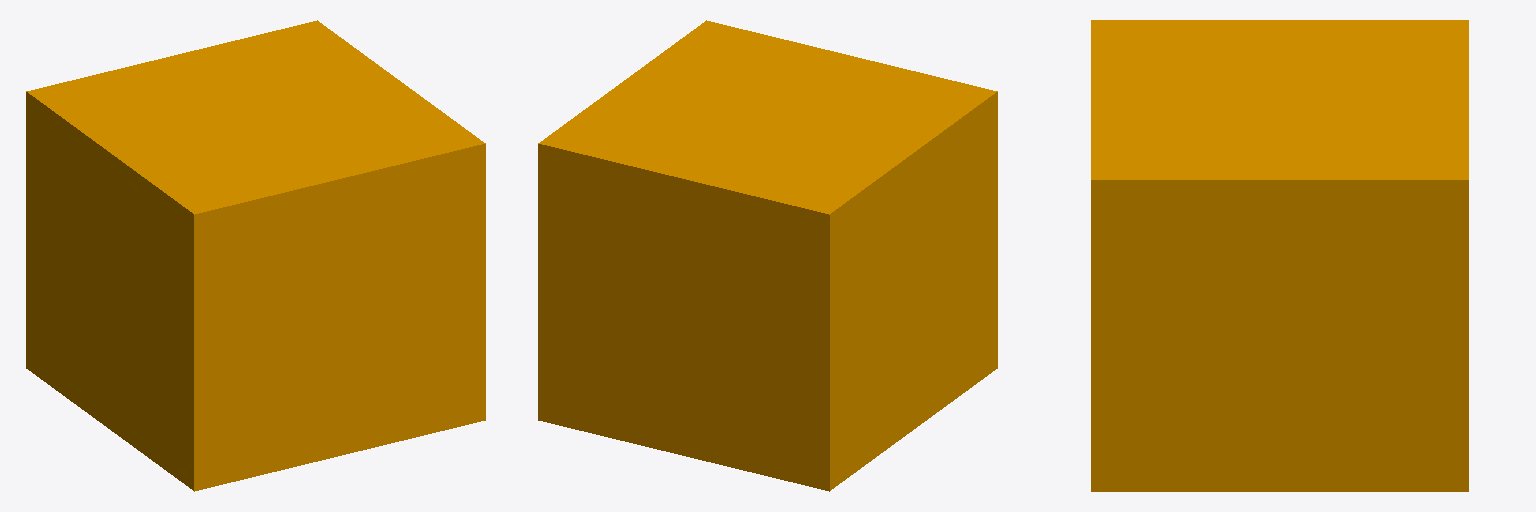
The robot description file, URDF, robot "object":
<robot name="object">
  <link name="object">
    <visual>
      <origin xyz="0 0 0" />
      <geometry>
        <box size="0.08800000000000002 0.08800000000000002 0.08" />
      </geometry>
    </visual>

    <collision>
      <origin xyz="0 0 0" />
      <geometry>
        <box size="0.08800000000000002 0.08800000000000002 0.08" />
      </geometry>
    </collision>

    <inertial>
      <mass value="0.05" />
      <inertia ixx="0.0001" ixy="0.0" ixz="0.0" iyy="0.0001" iyz="0.0" izz="0.0001" />
    </inertial>
  </link>
</robot>

--- What the picture shows (computed from the rendered views, not written in the file) ---
Views: 3 orthographic renders of the robot side by side, from view 1: azimuth 30°, elevation 25°; view 2: azimuth 150°, elevation 25°; view 3: azimuth 270°, elevation 25°.
Model object with 1 links and 0 joints (none), rooted at object, posed all joints at 0.
Visible links, largest first — view 1: object; view 2: object; view 3: object.
Boxes of the visible links, x1,y1,x2,y2 form: object: (26, 20, 485, 491); object: (538, 20, 997, 491); object: (1091, 20, 1468, 491).
Size in the robot's own frame: 0.088 by 0.088 by 0.08 metres.
Geometry: primitives only (box / cylinder / sphere), no mesh files.